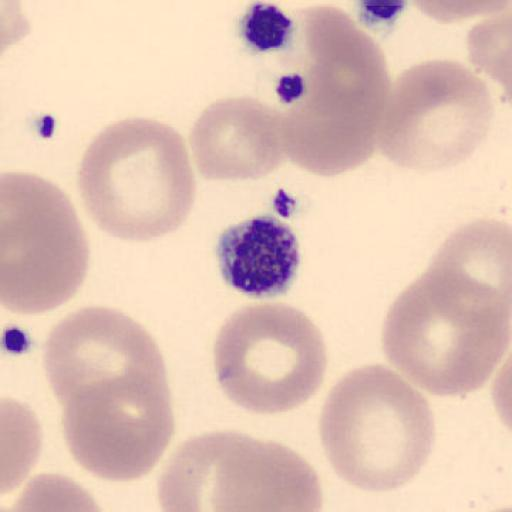Platelet: (213, 212, 305, 300), (236, 0, 296, 56)
RBC: (274, 1, 392, 178), (380, 266, 510, 398), (319, 362, 438, 496), (76, 114, 198, 244), (41, 305, 171, 421), (373, 58, 496, 173), (156, 430, 326, 512), (212, 301, 330, 417), (0, 170, 90, 318), (60, 372, 176, 484), (278, 72, 382, 178), (208, 433, 325, 512), (425, 215, 512, 320), (156, 429, 264, 512), (188, 94, 286, 184), (468, 2, 512, 107), (2, 469, 109, 512), (2, 394, 44, 500), (489, 309, 512, 434), (405, 0, 512, 24), (439, 0, 511, 32), (0, 0, 31, 56), (490, 353, 511, 434)
